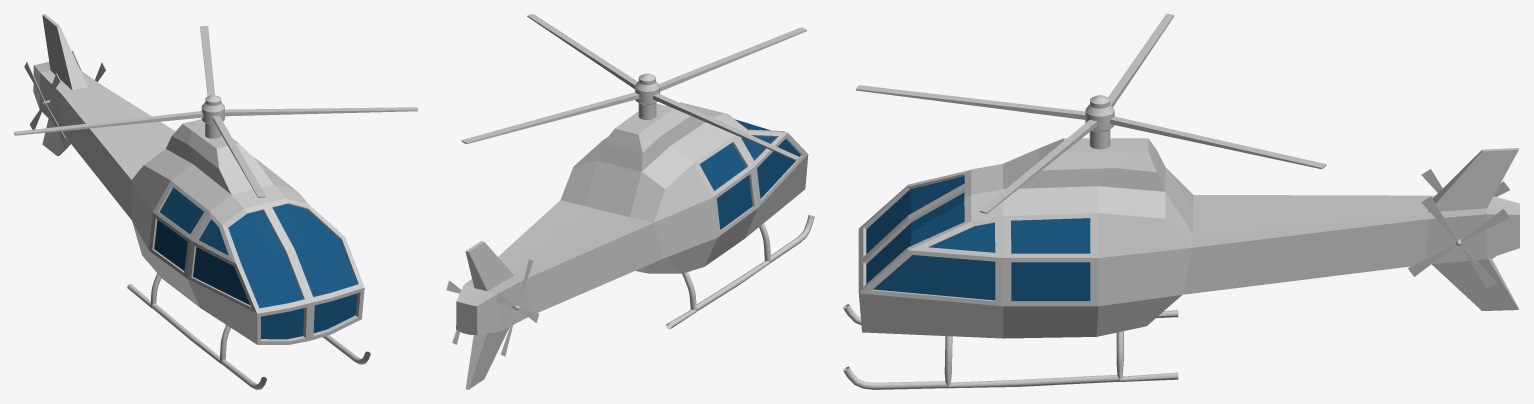
Rendered from helicopter_animation_000046.obj.
The picture shows the model from 3 angles, left to right: view 1: azimuth 30°, elevation 25°; view 2: azimuth 150°, elevation 25°; view 3: azimuth 270°, elevation 25°; orthographic projection. The views are drawn at different scales.
Parts seen in each view (by area): view 1: Helicopter.007_Cylinder.008, Helicopter.001_Cylinder.001, Helicopter.004_Cylinder.005; view 2: Helicopter.007_Cylinder.008, Helicopter.001_Cylinder.001, Helicopter.004_Cylinder.005; view 3: Helicopter.007_Cylinder.008, Helicopter.001_Cylinder.001, Helicopter.003_Cylinder.004.
Part boxes in pixels (bbox=[...]): Helicopter.007_Cylinder.008: bbox=[33, 14, 370, 389]; Helicopter.001_Cylinder.001: bbox=[14, 26, 417, 197]; Helicopter.004_Cylinder.005: bbox=[24, 61, 66, 143]; Helicopter.007_Cylinder.008: bbox=[456, 102, 814, 389]; Helicopter.001_Cylinder.001: bbox=[461, 14, 806, 160]; Helicopter.004_Cylinder.005: bbox=[494, 259, 539, 356]; Helicopter.007_Cylinder.008: bbox=[843, 138, 1519, 389]; Helicopter.001_Cylinder.001: bbox=[856, 14, 1326, 213]; Helicopter.003_Cylinder.004: bbox=[1407, 196, 1510, 289].
Size of the model in its own units: 5.19 by 3.2 by 7.49.
